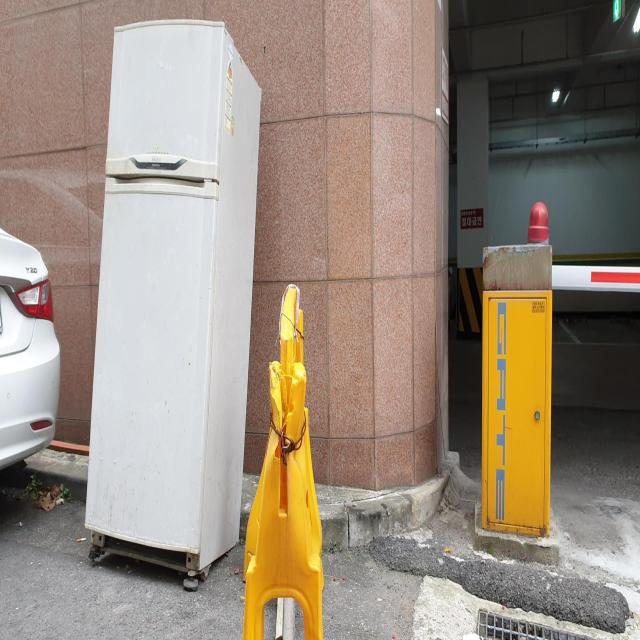refrigerator: (84, 14, 263, 578)
